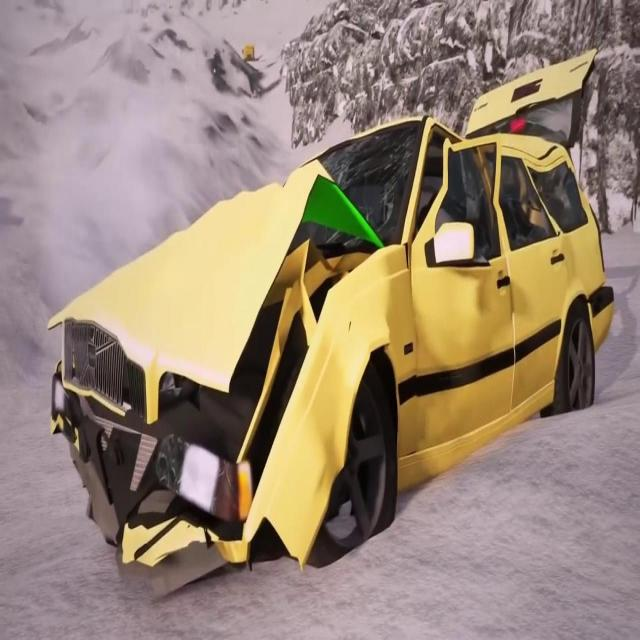accident: (40, 38, 620, 599)
